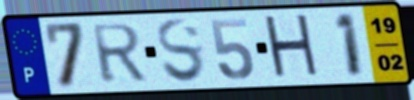1: (333, 11, 368, 79)
5: (208, 16, 256, 82)
7: (44, 21, 90, 91)
H: (260, 12, 323, 83)
R: (89, 22, 150, 86)
S: (154, 16, 209, 86)
